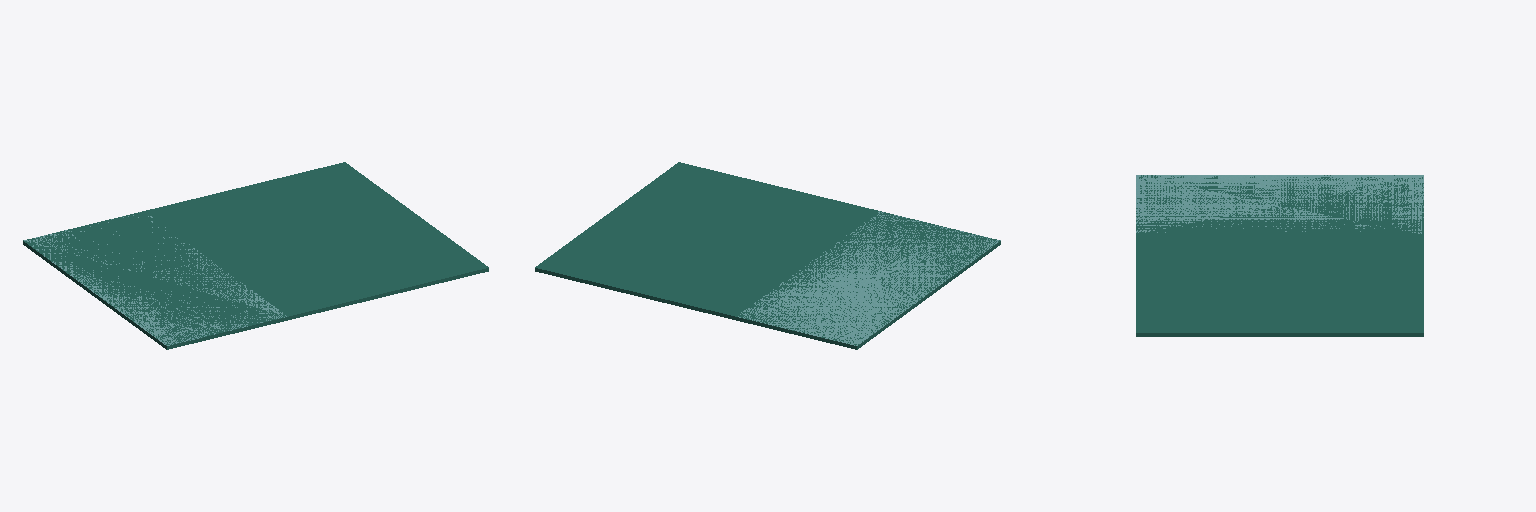
The picture shows the model from 3 angles: view 1: azimuth 30°, elevation 25°; view 2: azimuth 150°, elevation 25°; view 3: azimuth 270°, elevation 25°; orthographic projection.
Visible parts, largest first — view 1: pasted__pCube1 group11, pCube1; view 2: pCube1, pasted__pCube1 group11; view 3: pCube1, pasted__pCube1 group11.
Boxes of the visible parts, <box> form: pasted__pCube1 group11: <box>23,162,488,349</box>; pCube1: <box>23,162,488,349</box>; pCube1: <box>535,162,1000,349</box>; pasted__pCube1 group11: <box>535,162,1000,347</box>; pCube1: <box>1136,175,1423,336</box>; pasted__pCube1 group11: <box>1136,175,1423,336</box>.
Size of the model in its own units: 9.97 by 0.1103 by 7.72.
3 materials, 2 textured.